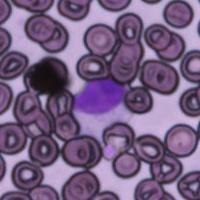L: (71, 77, 129, 121)
